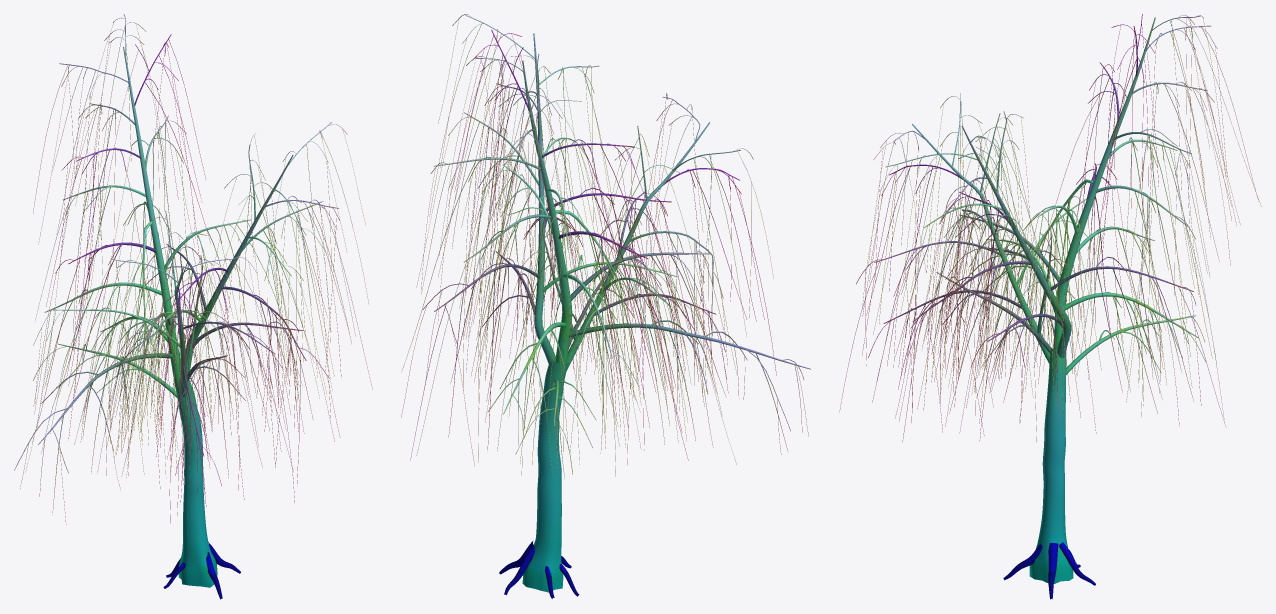
File: birch-hero.glb
3 renders of one model, left to right at view 1: azimuth 30°, elevation 25°; view 2: azimuth 150°, elevation 25°; view 3: azimuth 270°, elevation 25°, orthographic. The views are drawn at different scales.
Visible parts, largest first — view 1: bark; view 2: bark; view 3: bark.
Part boxes in pixels (x1,y1,x2,y2): bark: (14, 14, 372, 599); bark: (401, 14, 810, 598); bark: (839, 14, 1261, 599).
Bounding box in the file's own units: 10.87 × 16.01 × 10.92.
